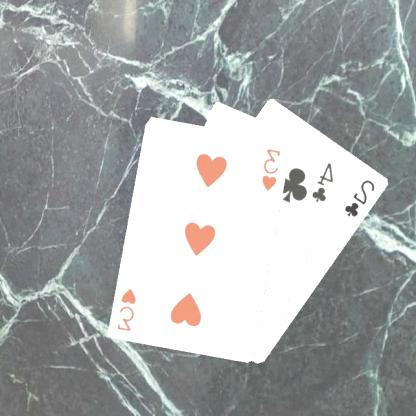2C: (343, 176, 379, 218)
3H: (261, 145, 285, 193), (116, 285, 140, 333)
4C: (311, 160, 337, 204)
